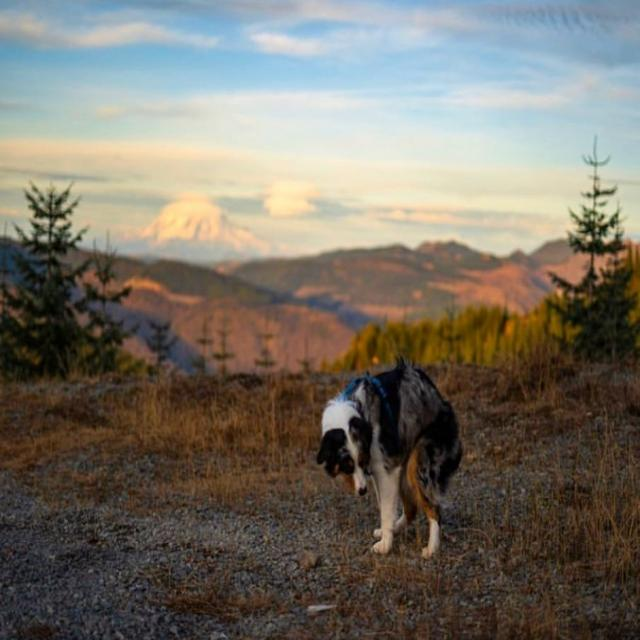squatting: (314, 361, 470, 566)
